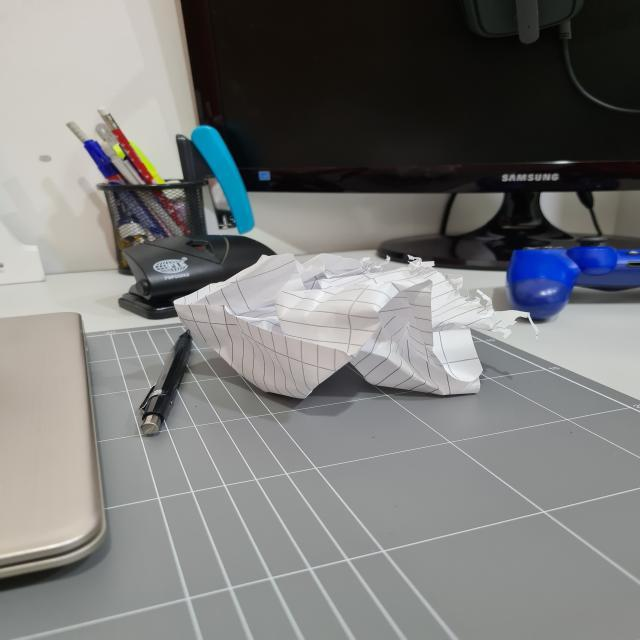Paper: (173, 255, 526, 404)
